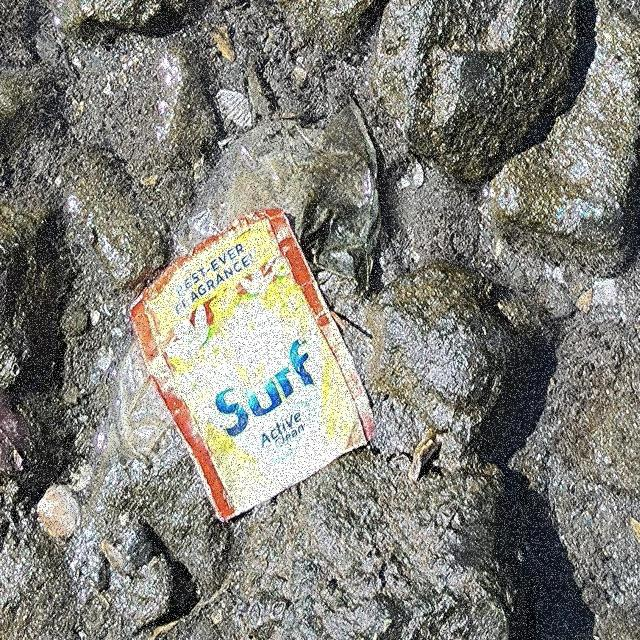plastic_waste: (128, 208, 378, 524)
